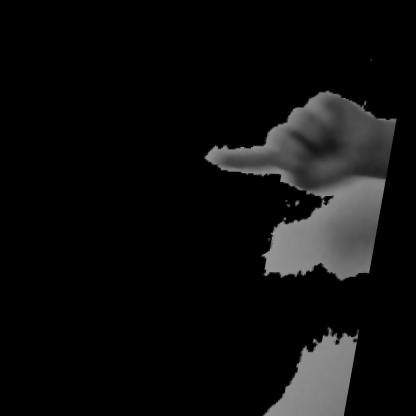one: (180, 68, 405, 243)
